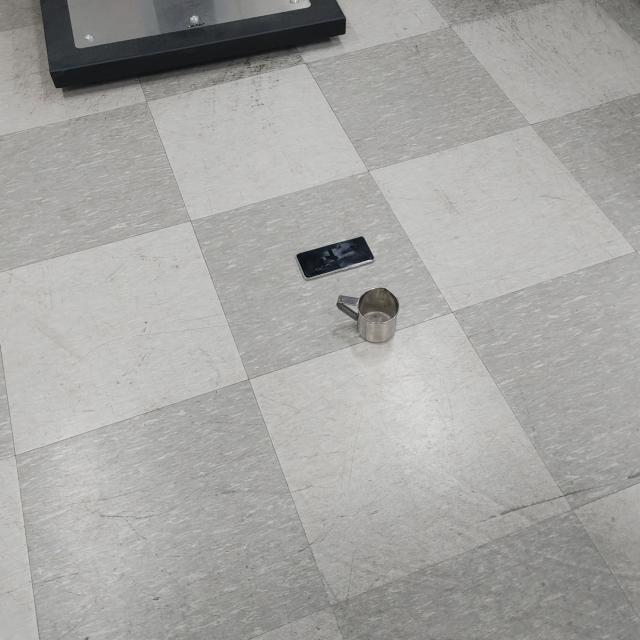cup: (332, 286, 402, 346)
phone: (296, 235, 376, 282)
